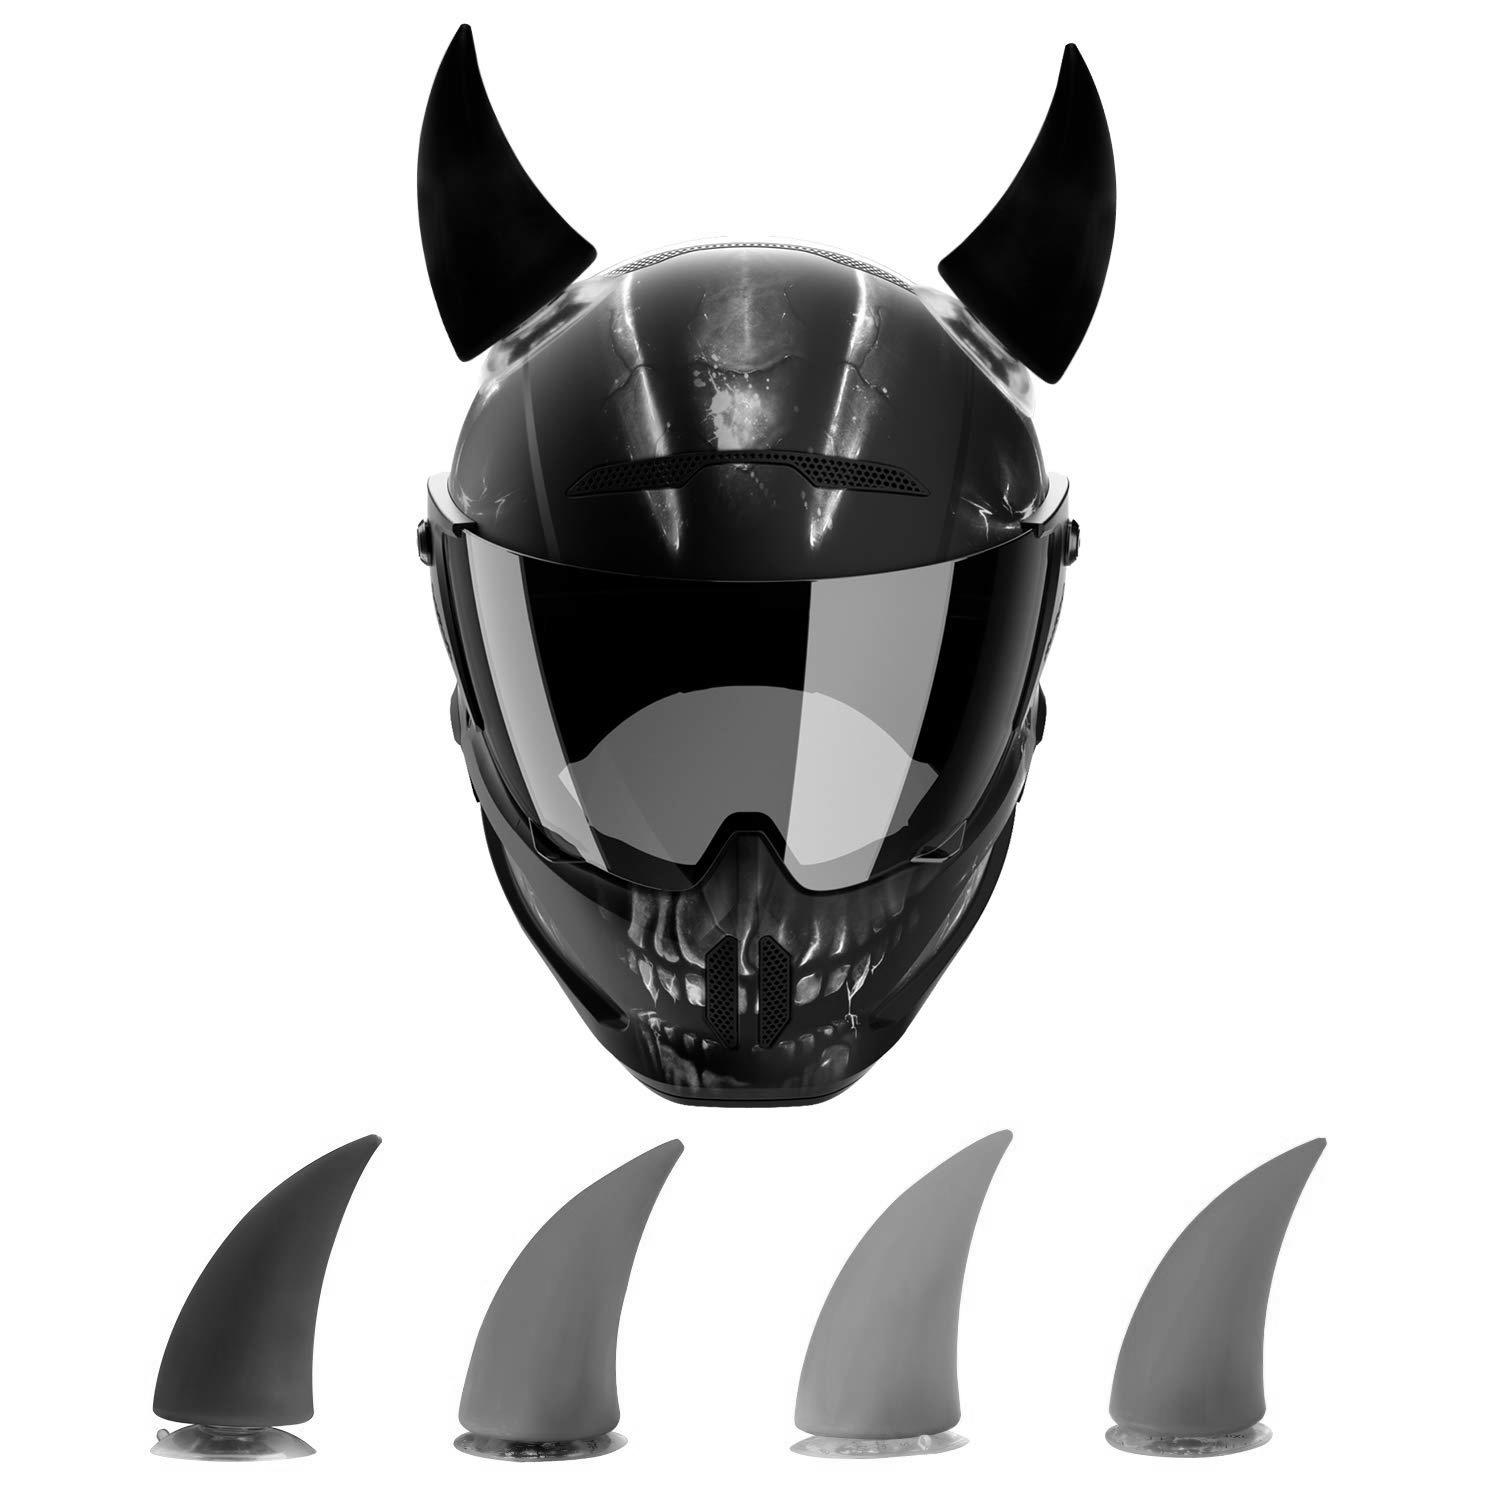Helmet: (415, 234, 1081, 1113)
